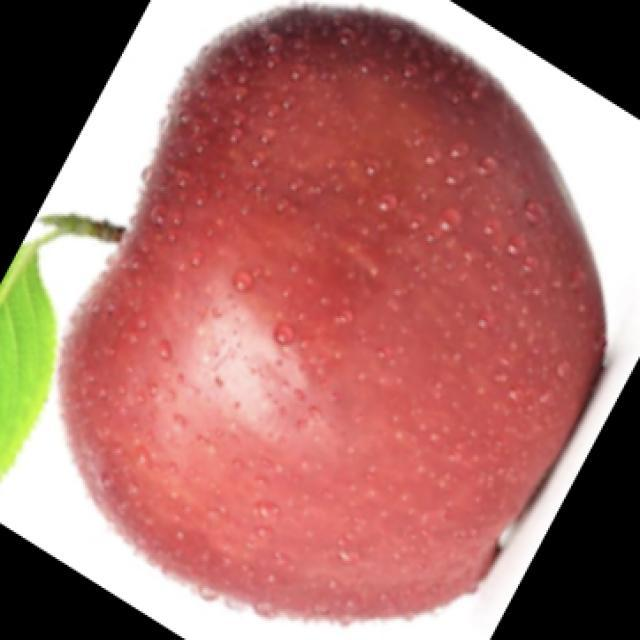Fresh Apple: (58, 14, 602, 618)
